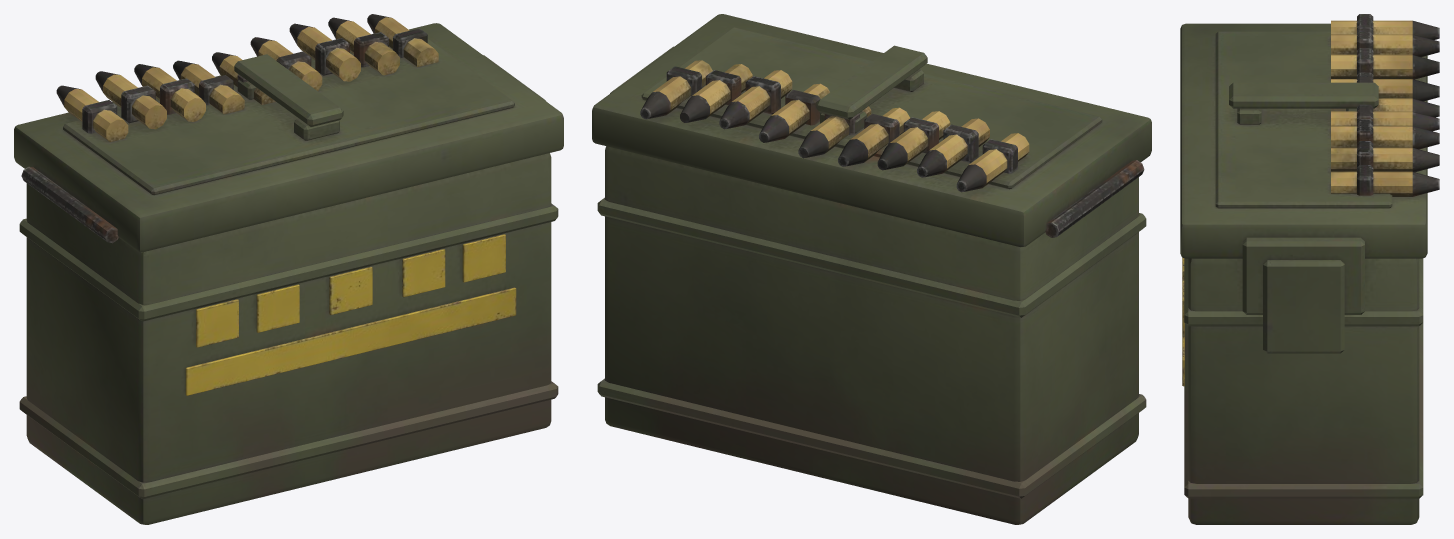
Rendered from ammo_box.glb.
3 renders of one model, left to right at view 1: azimuth 30°, elevation 25°; view 2: azimuth 150°, elevation 25°; view 3: azimuth 270°, elevation 25°, orthographic. The views are drawn at different scales.
Parts seen in each view (by area): view 1: Model; view 2: Model; view 3: Model.
Boxes of the visible parts, x1,y1,x2,y2 form: Model: (14, 14, 563, 524); Model: (592, 14, 1151, 524); Model: (1180, 14, 1439, 524).
Bounding box in the file's own units: 0.382 × 0.277 × 0.191.
1 material, 1 textured.
